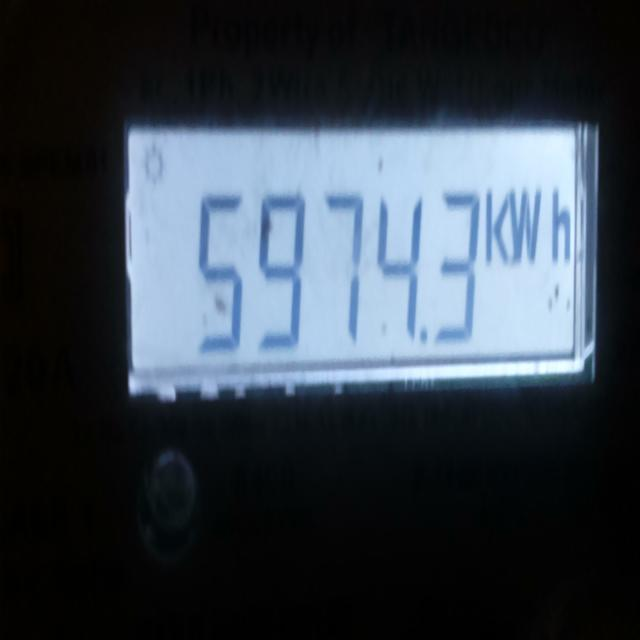.: (414, 317, 432, 350)
3: (433, 182, 481, 350)
4: (376, 188, 424, 342)
5: (191, 181, 251, 357)
7: (320, 187, 370, 353)
9: (249, 188, 309, 354)
